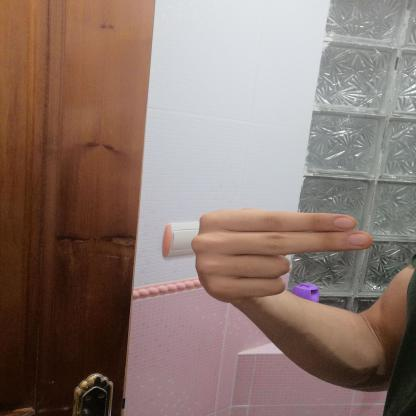AYN: (181, 200, 392, 316)
